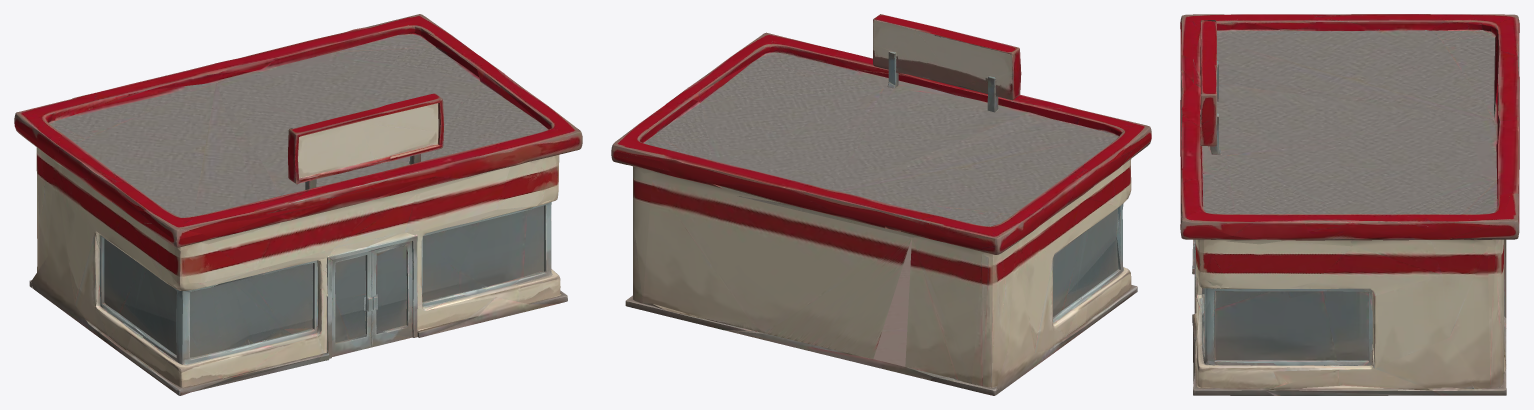
The model's file is diner.glb.
The picture shows the model from 3 angles, left to right: view 1: azimuth 30°, elevation 25°; view 2: azimuth 150°, elevation 25°; view 3: azimuth 270°, elevation 25°; orthographic projection. The views are drawn at different scales.
Parts seen in each view (by area): view 1: placed; view 2: placed; view 3: placed.
Boxes of the visible parts, bbox=[...] form: placed: bbox=[14, 14, 582, 395]; placed: bbox=[611, 14, 1151, 395]; placed: bbox=[1180, 14, 1519, 395].
Bounding box in the file's own units: 16 × 8.58 × 10.97.
1 material, 1 textured.
